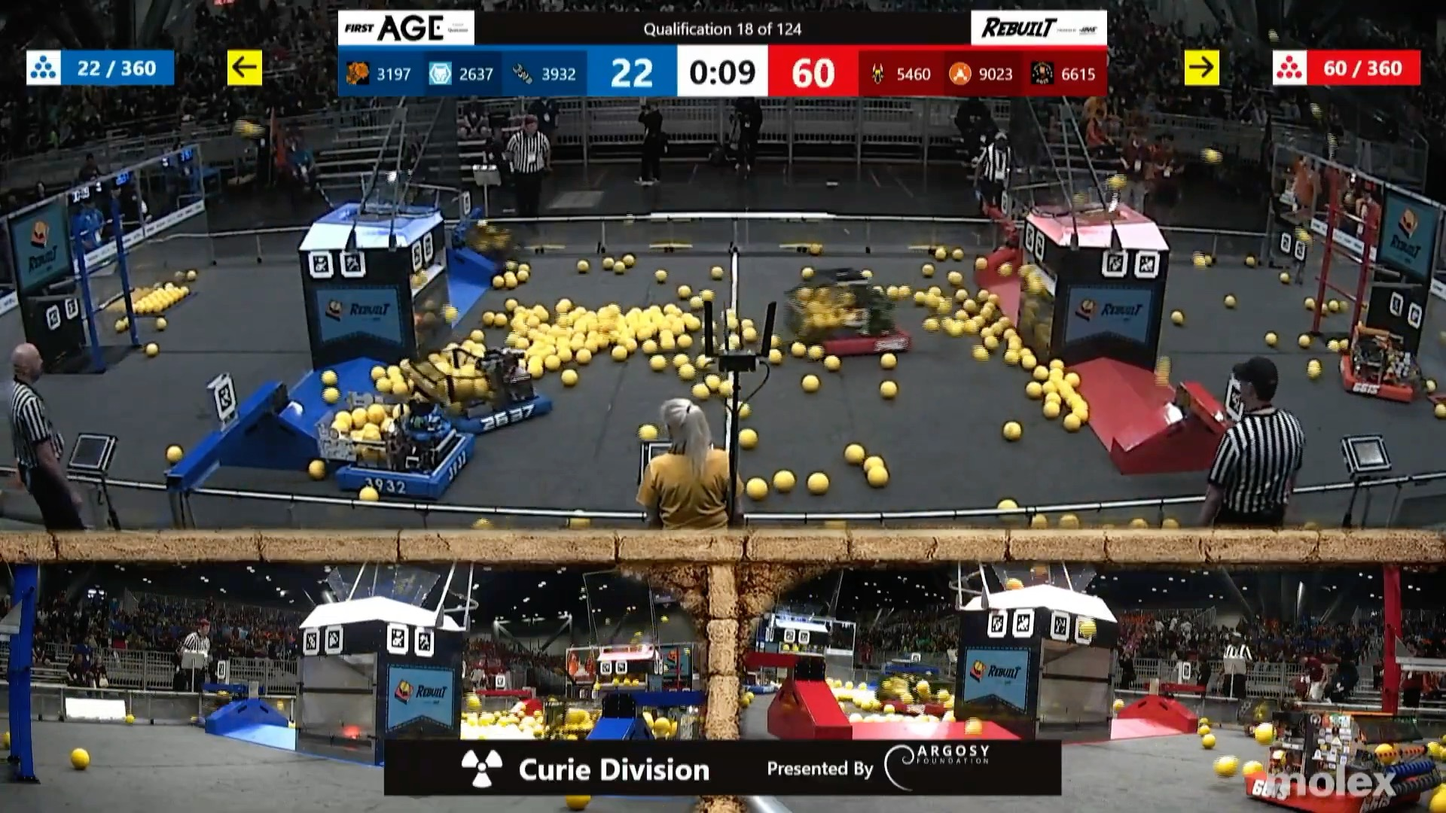bumpers: (328, 426, 483, 501), (1246, 753, 1433, 813), (425, 384, 560, 436), (1325, 352, 1428, 410), (808, 317, 916, 364)
